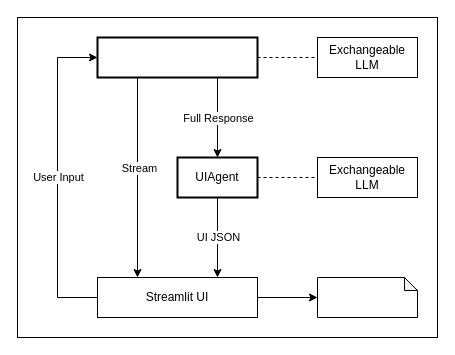
Some shapes in this 455 by 355 pixel diagram are drawn without their labels. The centre of each missing label's shape, as x and y in pixels:
"ConversationalAgent" belongs at (177,57).
"training data" belongs at (367,297).
